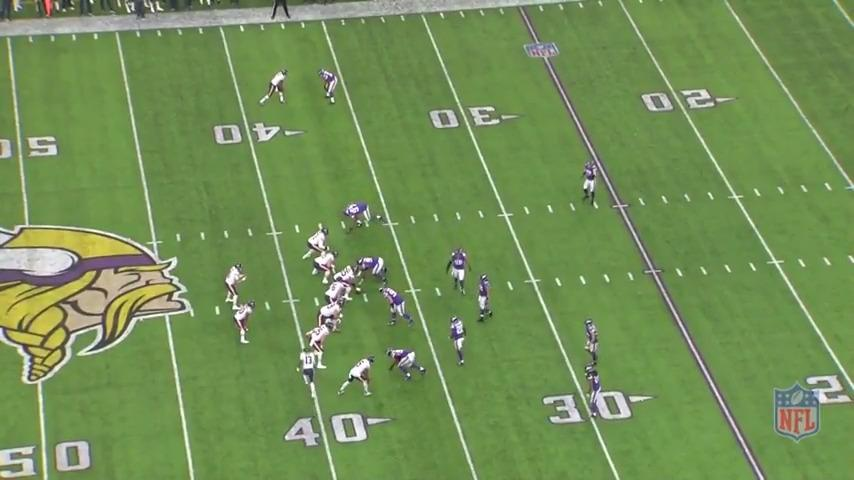defense: (380, 285, 417, 332), (383, 347, 427, 383), (582, 364, 607, 425), (446, 245, 473, 297), (448, 315, 471, 370), (354, 255, 391, 288), (581, 158, 604, 210), (344, 200, 382, 231), (582, 317, 603, 369), (475, 271, 495, 324), (318, 67, 340, 108)
oline: (328, 263, 366, 303), (311, 249, 341, 287), (304, 225, 332, 263), (318, 298, 347, 334), (324, 279, 350, 307)
qb: (223, 262, 248, 310)
ref: (267, 0, 295, 21)
skill: (339, 354, 378, 400), (300, 322, 332, 374), (296, 347, 324, 401), (259, 66, 292, 109), (233, 298, 257, 347)
